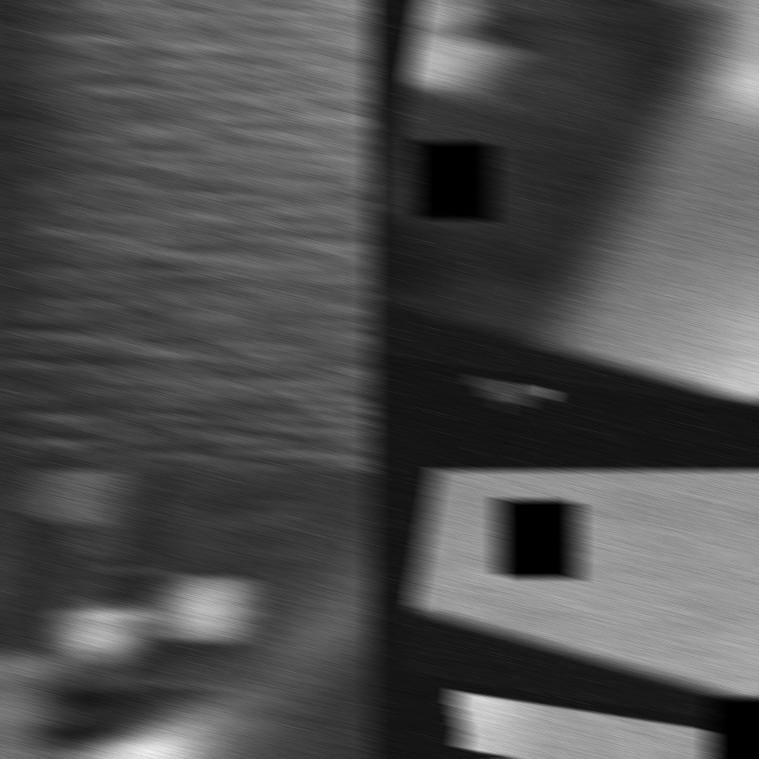Airbag: (0, 0, 375, 471), (373, 0, 759, 406), (0, 469, 375, 759), (407, 469, 759, 708)
